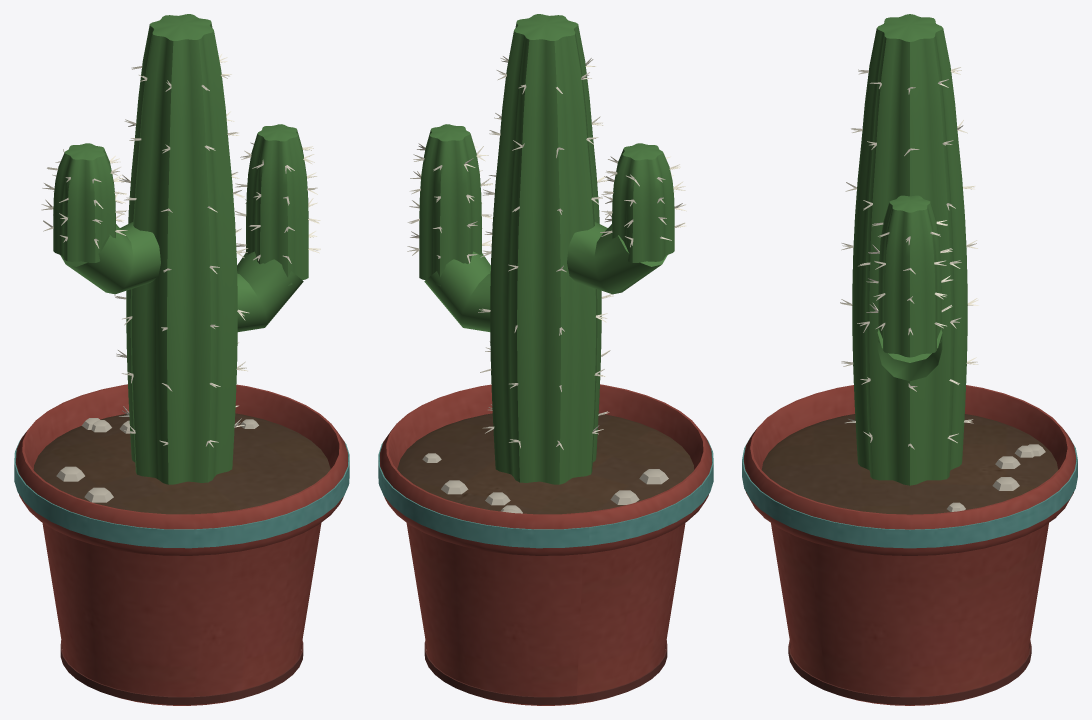
File: potted_cactus.glb
3 renders of one model, left to right at view 1: azimuth 30°, elevation 25°; view 2: azimuth 150°, elevation 25°; view 3: azimuth 270°, elevation 25°, orthographic.
Parts seen in each view (by area): view 1: PottedCactusBody; view 2: PottedCactusBody; view 3: PottedCactusBody.
Part boxes in pixels (x1=…): PottedCactusBody: x1=14, y1=14, x2=349, y2=705; PottedCactusBody: x1=378, y1=14, x2=713, y2=705; PottedCactusBody: x1=742, y1=14, x2=1077, y2=705.
Bounding box in the file's own units: 0.2174 × 0.453 × 0.2174.
Materials: 7 (4 with a texture image).
